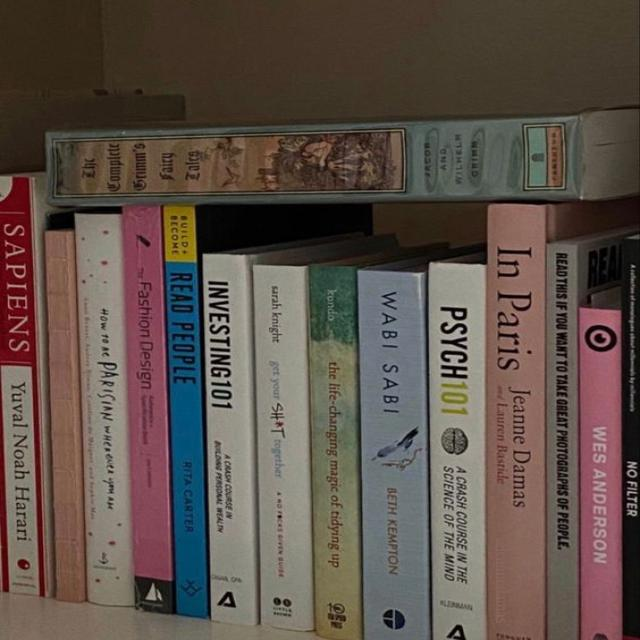book: (47, 110, 582, 204), (488, 204, 545, 640), (360, 271, 426, 639), (74, 213, 133, 606), (430, 262, 487, 640), (254, 266, 312, 631), (123, 203, 174, 614), (200, 254, 254, 625), (313, 263, 363, 640), (166, 203, 209, 617), (3, 178, 44, 596), (580, 309, 624, 640), (48, 230, 84, 600), (548, 245, 579, 640)
